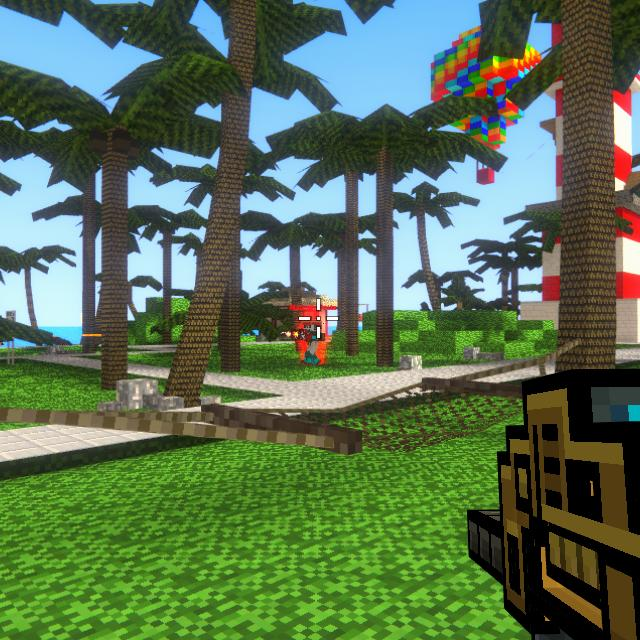Enemy: (298, 318, 326, 365)
